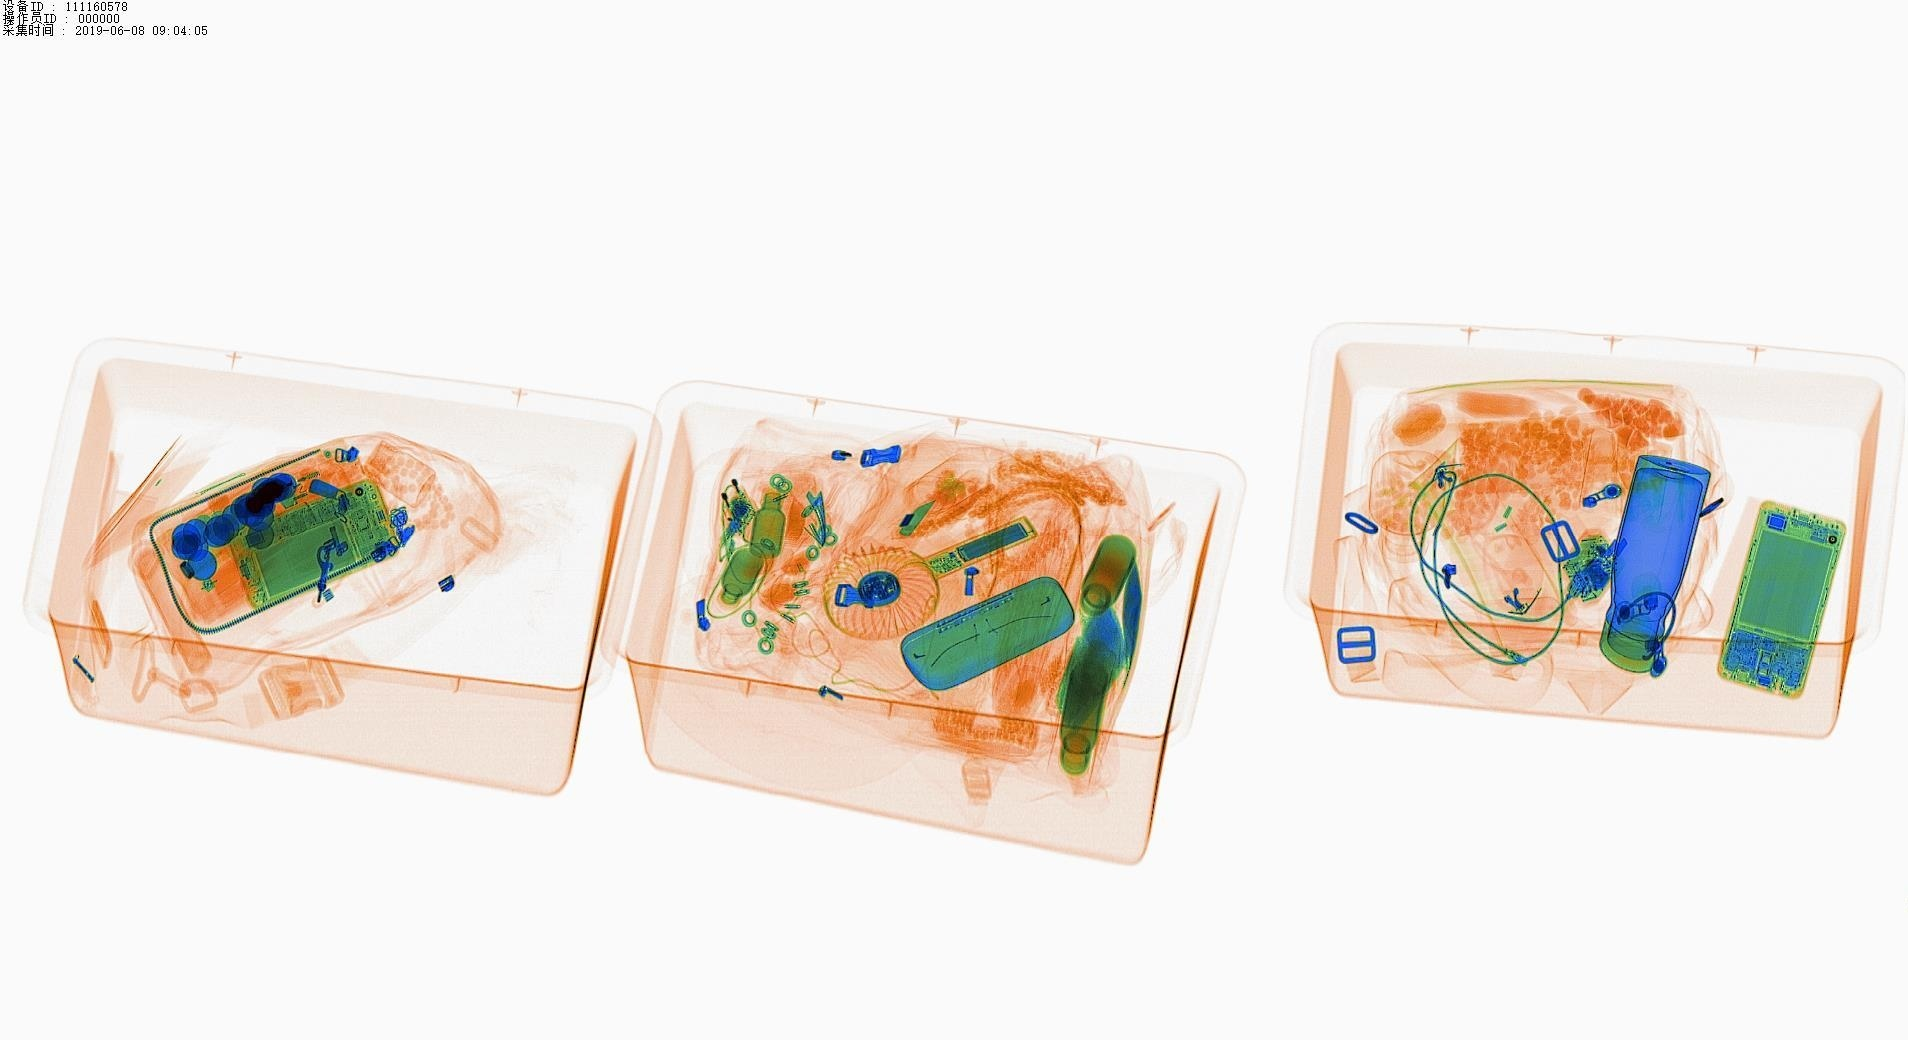NonmetallicFire: (264, 435, 387, 520)
